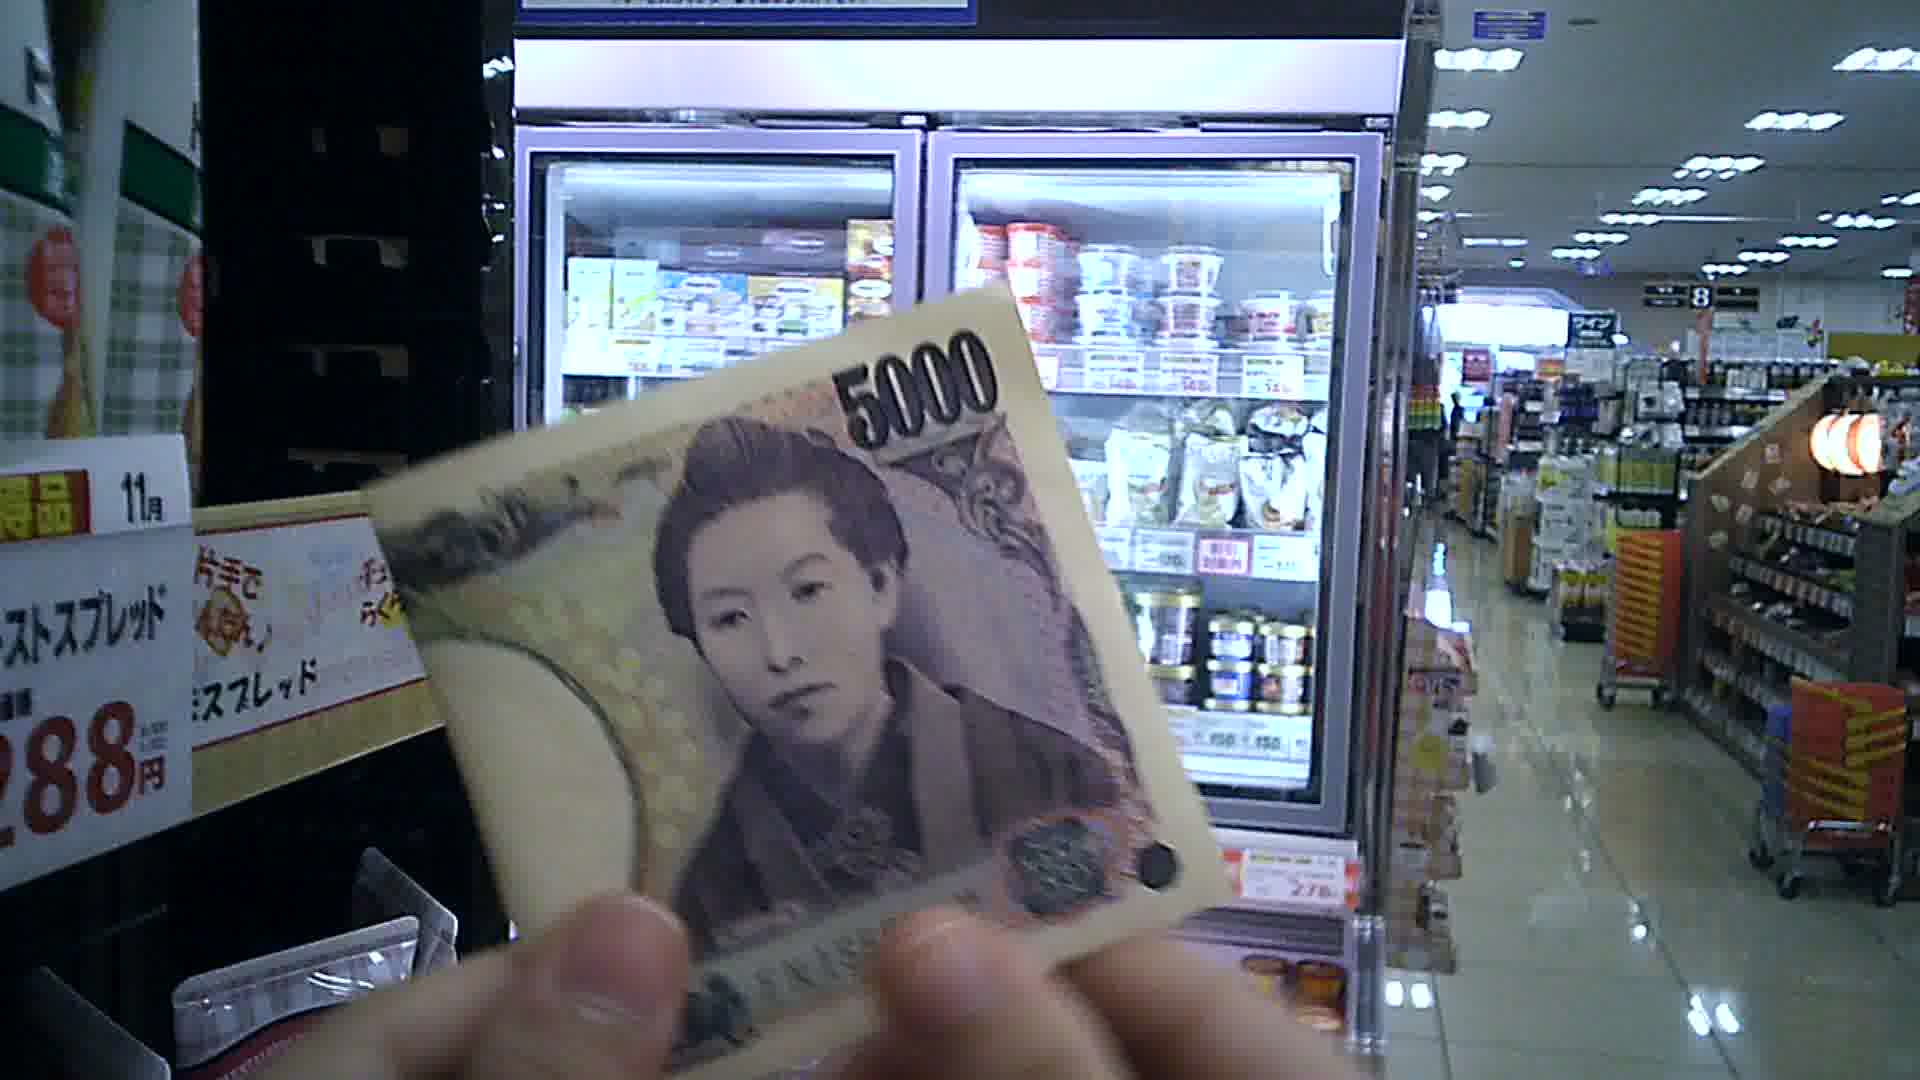5,000 Yen: (371, 306, 1225, 1064)
